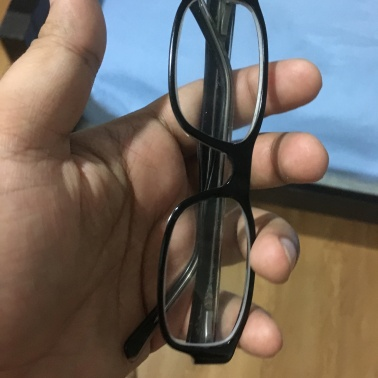glasses: (130, 3, 266, 352)
